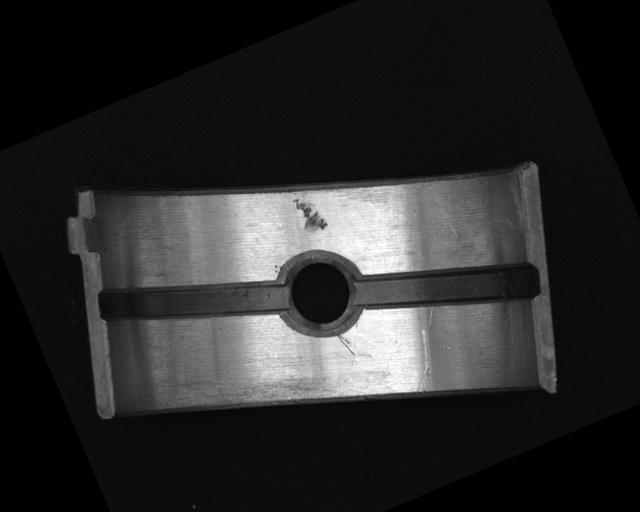bruise: (290, 190, 330, 238)
gap: (95, 226, 290, 375), (351, 217, 544, 360)
hole: (269, 242, 376, 350)
nick: (396, 325, 449, 394), (335, 329, 357, 360)
scratch: (168, 339, 331, 454)
